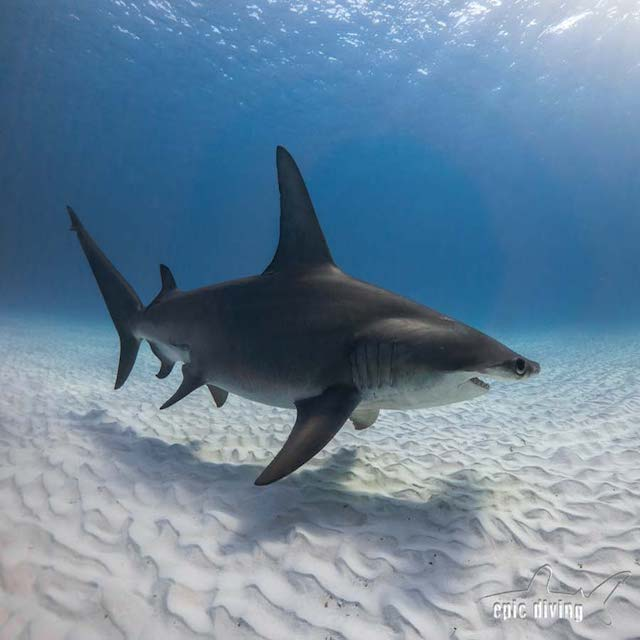hammerhead: (175, 177, 566, 491)
